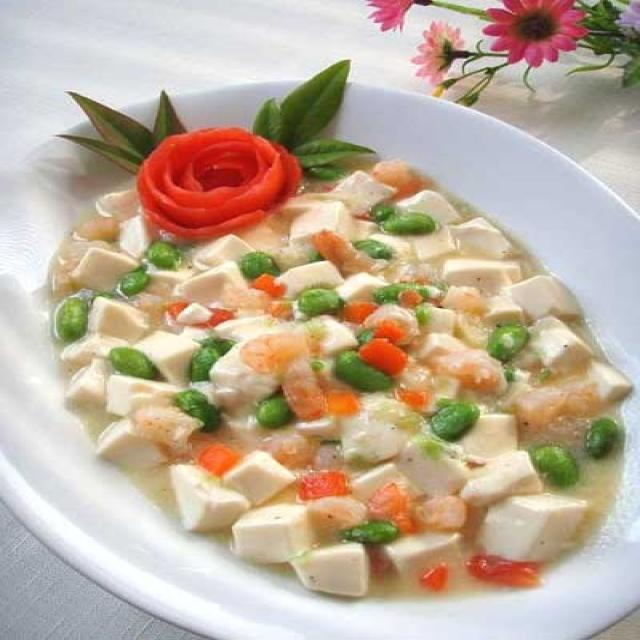豆腐料理: (16, 58, 635, 626)
